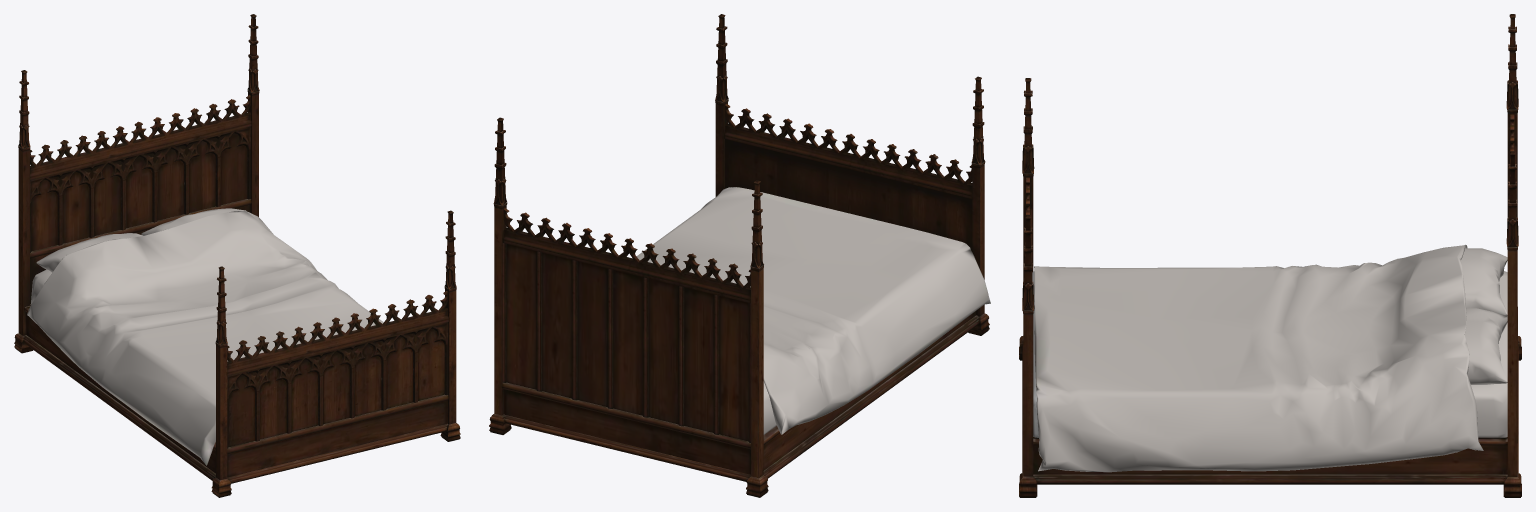
File: GothicBed_01.glb
3 views of the same model, side by side, from view 1: azimuth 30°, elevation 25°; view 2: azimuth 150°, elevation 25°; view 3: azimuth 270°, elevation 25° (orthographic). The views are drawn at different scales.
Visible parts, largest first — view 1: GothicBed_01; view 2: GothicBed_01; view 3: GothicBed_01.
Part boxes in pixels (x1=…): GothicBed_01: x1=14, y1=14, x2=460, y2=497; GothicBed_01: x1=489, y1=14, x2=990, y2=497; GothicBed_01: x1=1019, y1=14, x2=1521, y2=497.
Size of the model in its own units: 1.49 by 1.53 by 2.04.
Materials: 1 (1 with a texture image).
